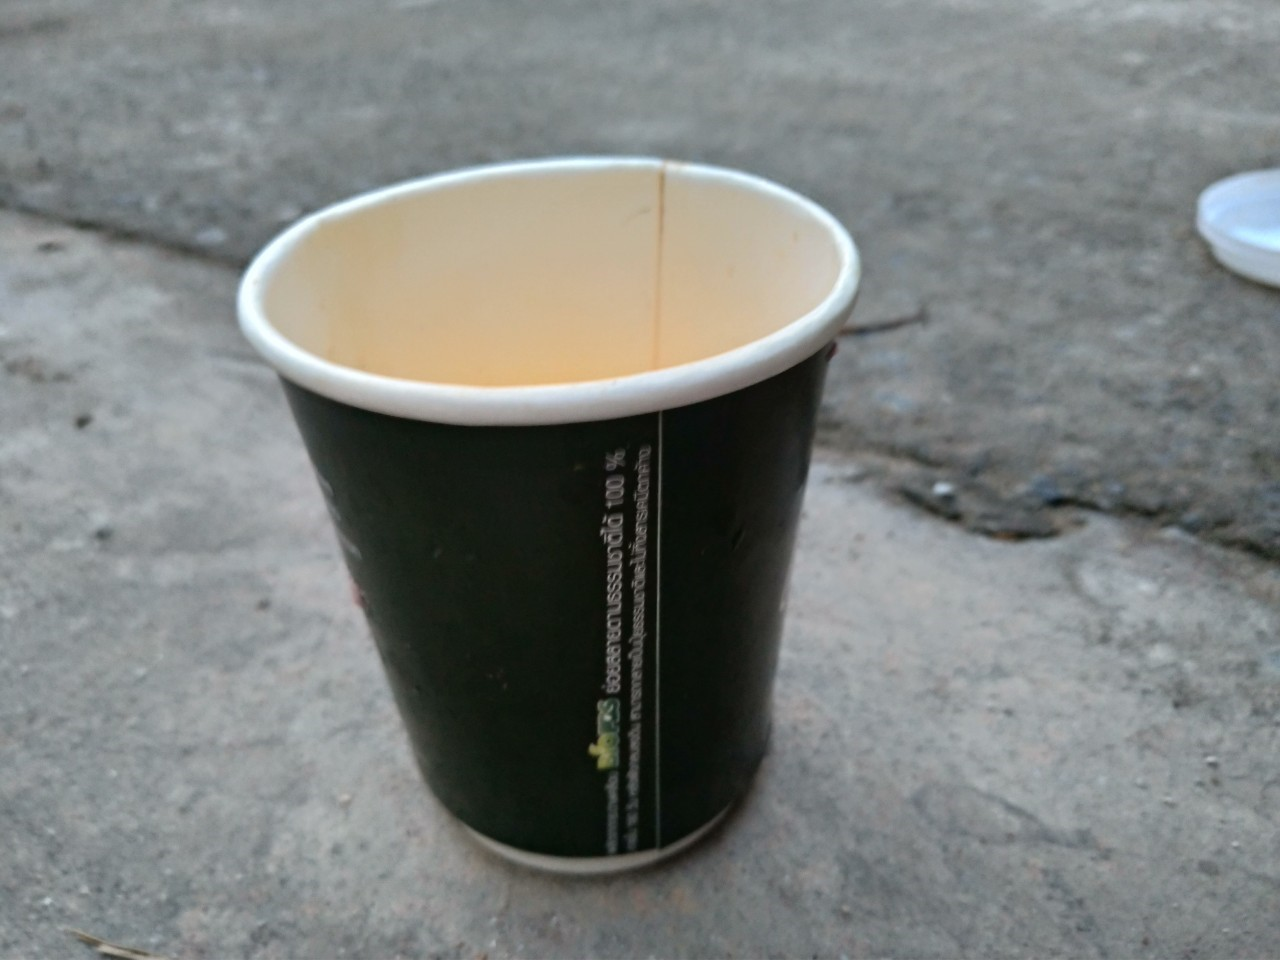PaperCup: (226, 147, 862, 881)
